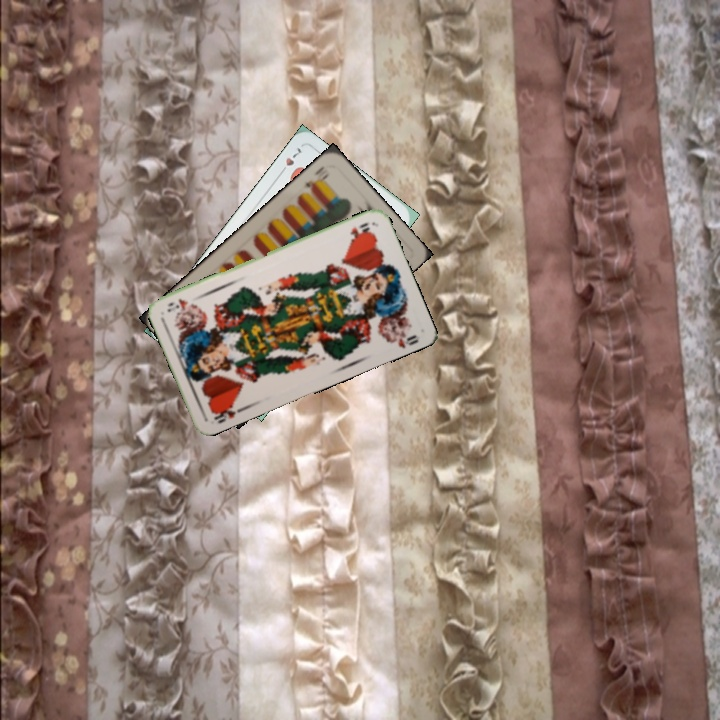E10: (301, 161, 332, 195)
H7: (275, 143, 304, 178)
HO: (208, 400, 238, 426), (345, 218, 373, 242)
